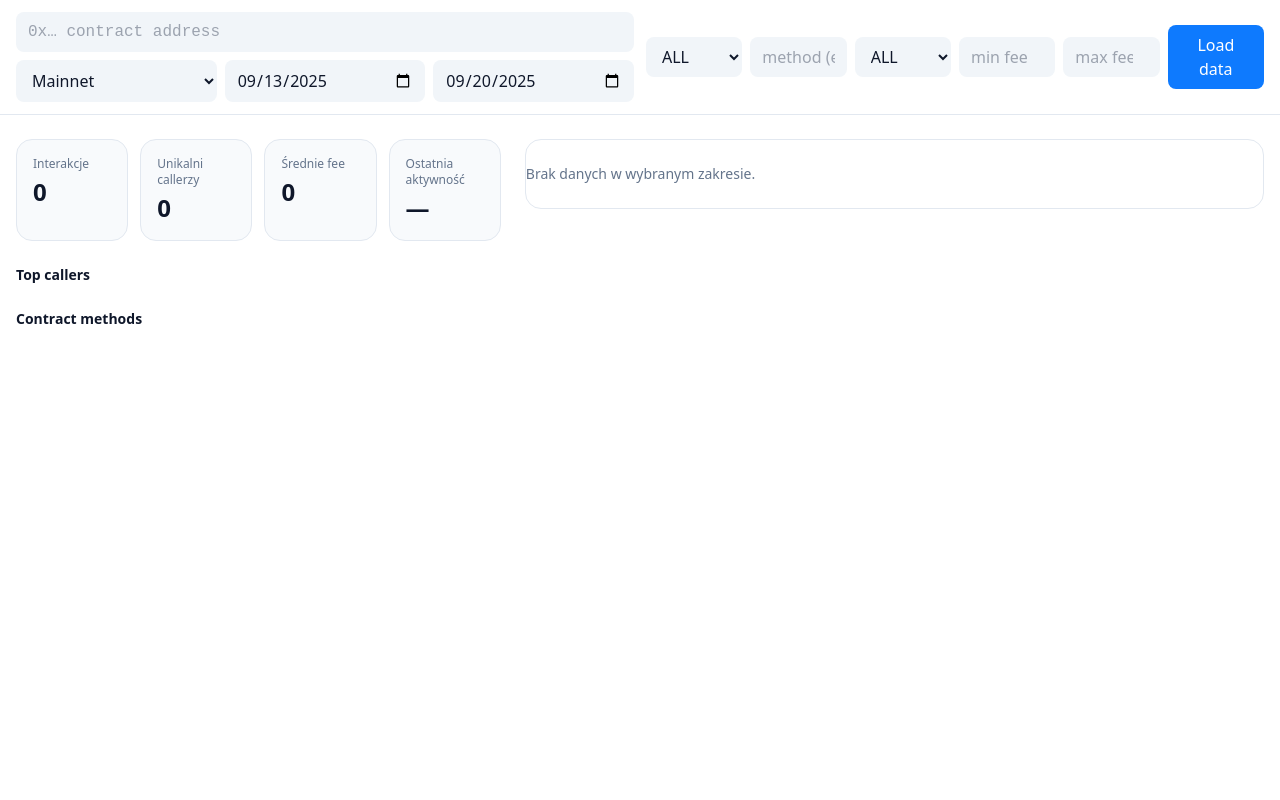
Test: App date filters › omits invalid date ranges and still loads data
This screenshot has width=1280, height=800.
Type "0xCAFEBABE" into the field with placeholder "0x… contract address" at [325, 32], box [16,12,634,52]
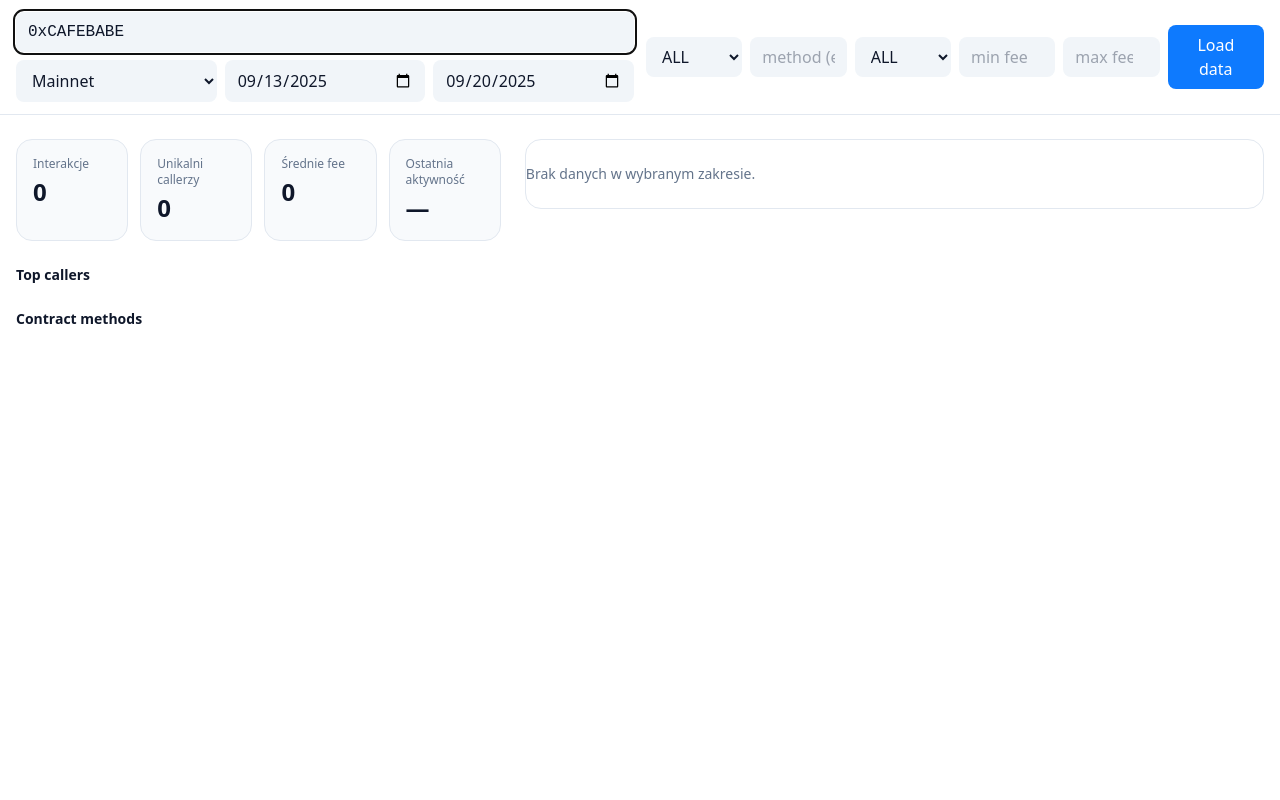
Clear the 1st date field at [325, 81], box [225,60,425,102]
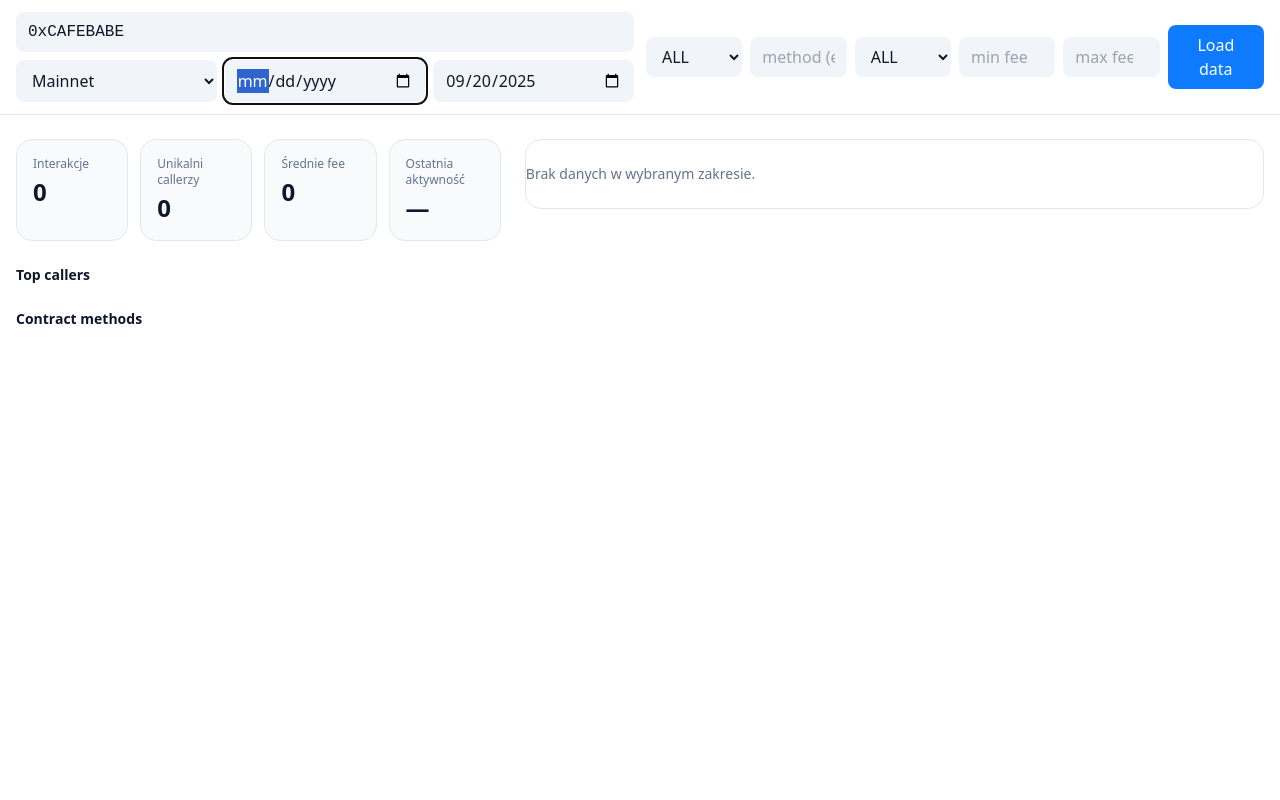
Clear the 2nd date field at [534, 81], box [433,60,634,102]
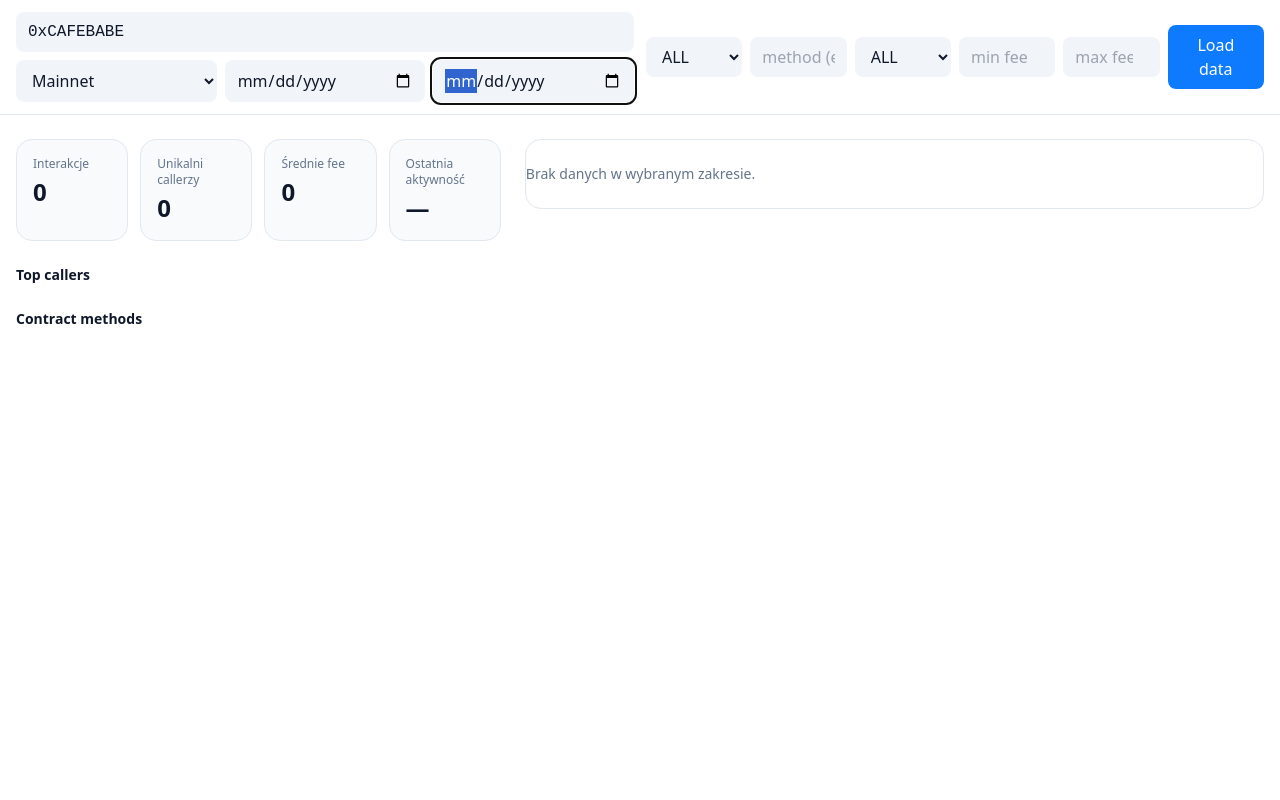
Click the button "Load data" at [1216, 57], box [1168,25,1264,89]
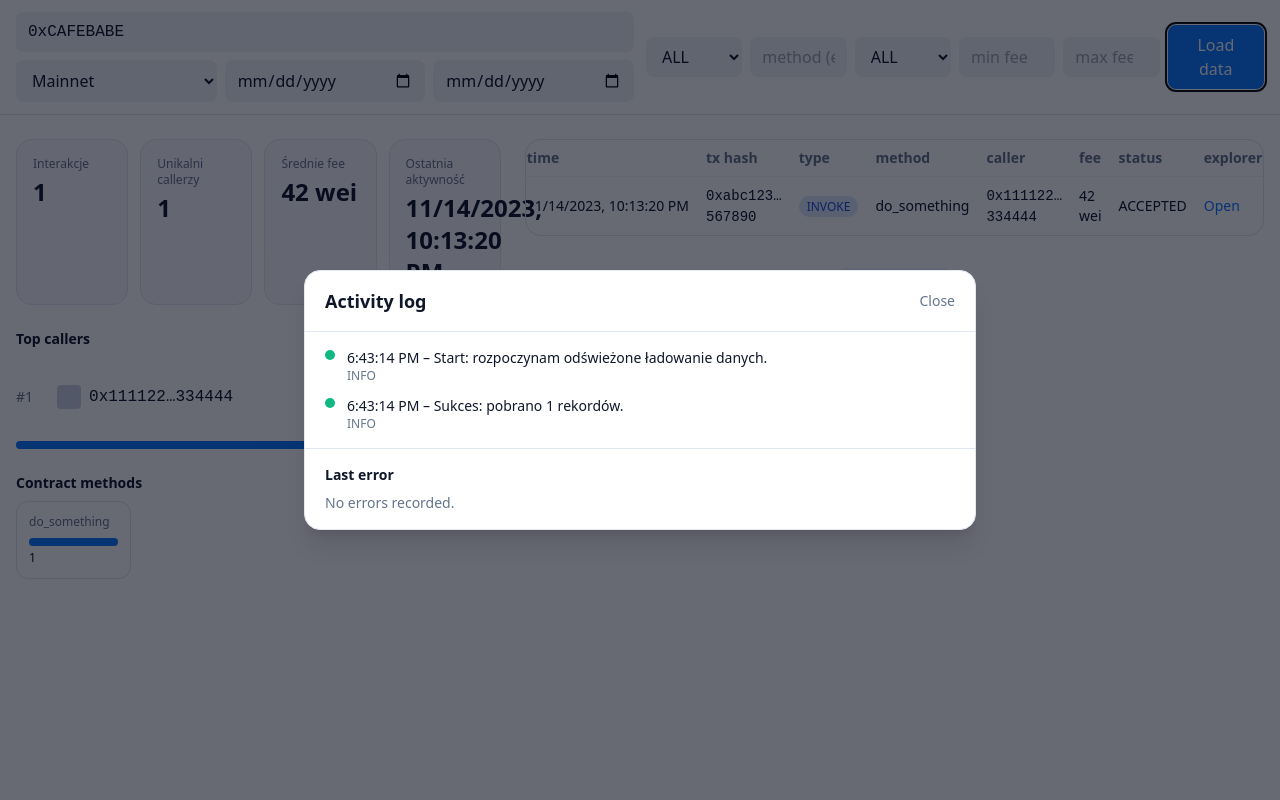
Expected: the text "6:43:14 PM – Sukces: pobrano 1 rekordów." is shown, [347,396,624,416]
